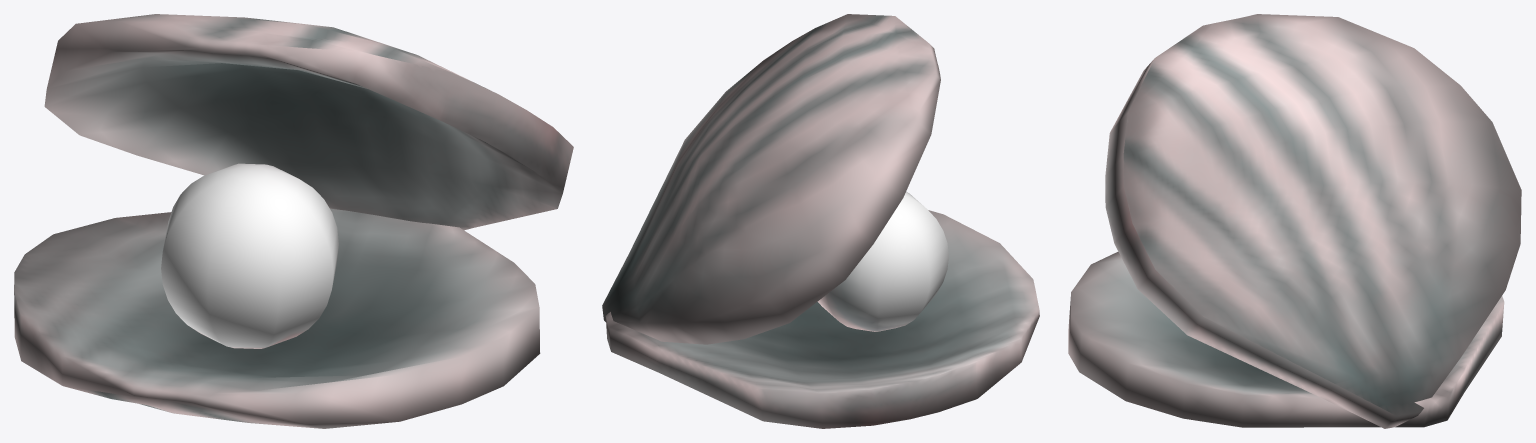
Rendered from shell.fbx.
3 renders of one model, left to right at view 1: azimuth 30°, elevation 25°; view 2: azimuth 150°, elevation 25°; view 3: azimuth 270°, elevation 25°, orthographic. The views are drawn at different scales.
Parts seen in each view (by area): view 1: Cube.002, Cube.001, Sphere; view 2: Cube.001, Cube.002, Sphere; view 3: Cube.001, Cube.002.
Boxes of the visible parts, x1=… form: Cube.002: x1=14, y1=208, x2=540, y2=428; Cube.001: x1=44, y1=14, x2=573, y2=230; Sphere: x1=161, y1=163, x2=338, y2=348; Cube.001: x1=602, y1=14, x2=940, y2=344; Cube.002: x1=605, y1=210, x2=1039, y2=428; Sphere: x1=817, y1=191, x2=948, y2=331; Cube.001: x1=1105, y1=14, x2=1521, y2=428; Cube.002: x1=1068, y1=251, x2=1504, y2=427.
Bounding box in the file's own units: 25.66 × 20.77 × 25.73.
